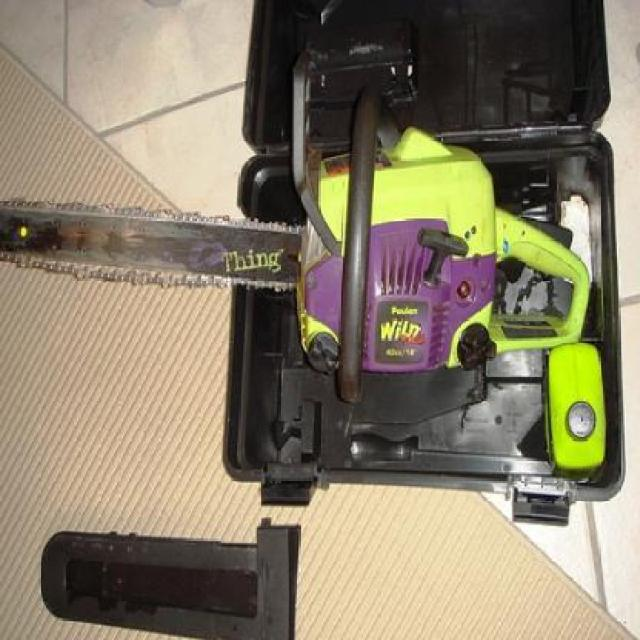Chainsaw: (0, 45, 597, 406)
